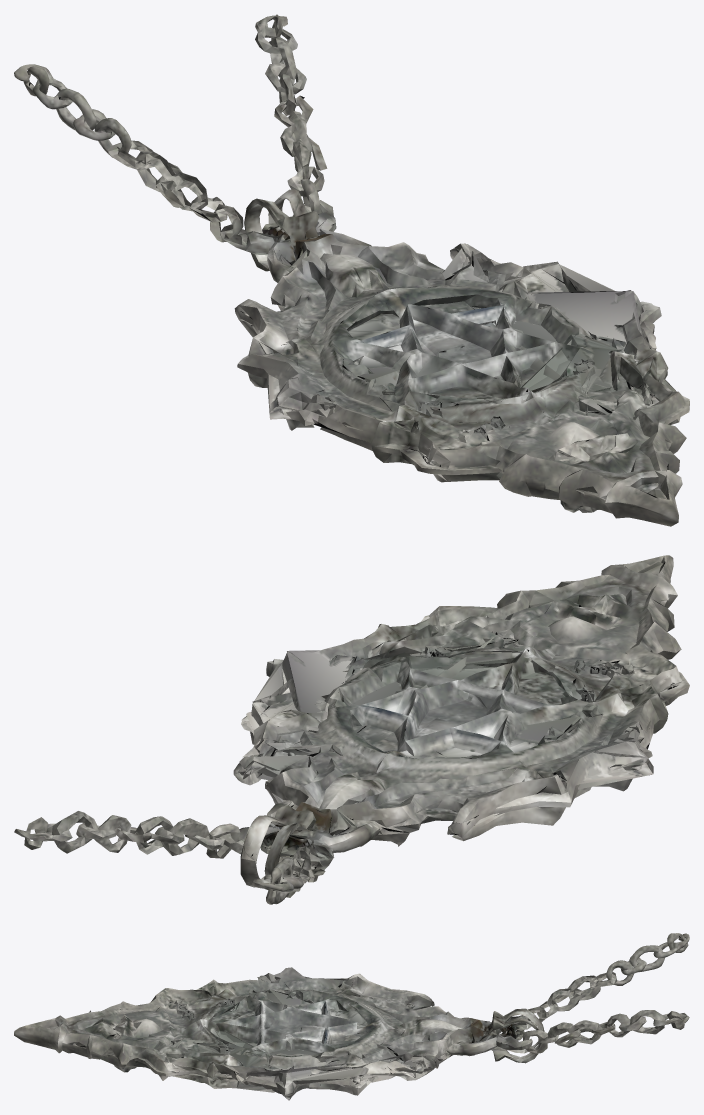
Rendered from medallion_LOD0.glb.
3 views of the same model, one above another, from view 1: azimuth 30°, elevation 25°; view 2: azimuth 150°, elevation 25°; view 3: azimuth 270°, elevation 25° (orthographic). The views are drawn at different scales.
Visible parts, largest first — view 1: medallion_LOD0; view 2: medallion_LOD0; view 3: medallion_LOD0.
Boxes of the visible parts, bbox=[...] form: medallion_LOD0: bbox=[14, 14, 689, 526]; medallion_LOD0: bbox=[14, 555, 689, 904]; medallion_LOD0: bbox=[14, 933, 689, 1100].
Bounding box in the file's own units: 0.0508 × 0.0192 × 0.1199.
1 material, 1 textured.
